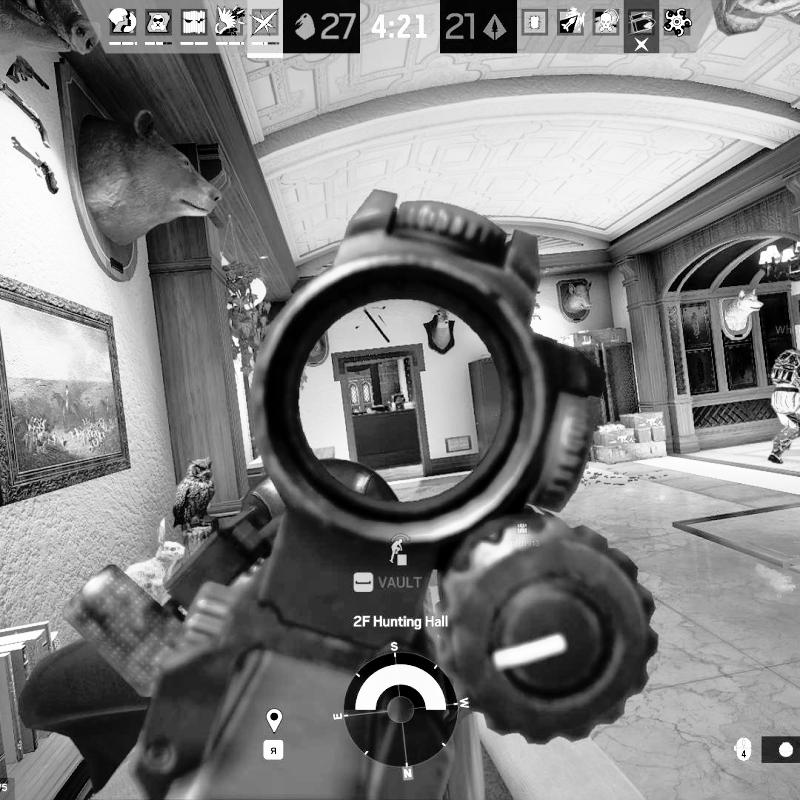Character: (766, 345, 800, 465)
Friend_label: (772, 317, 800, 338)
